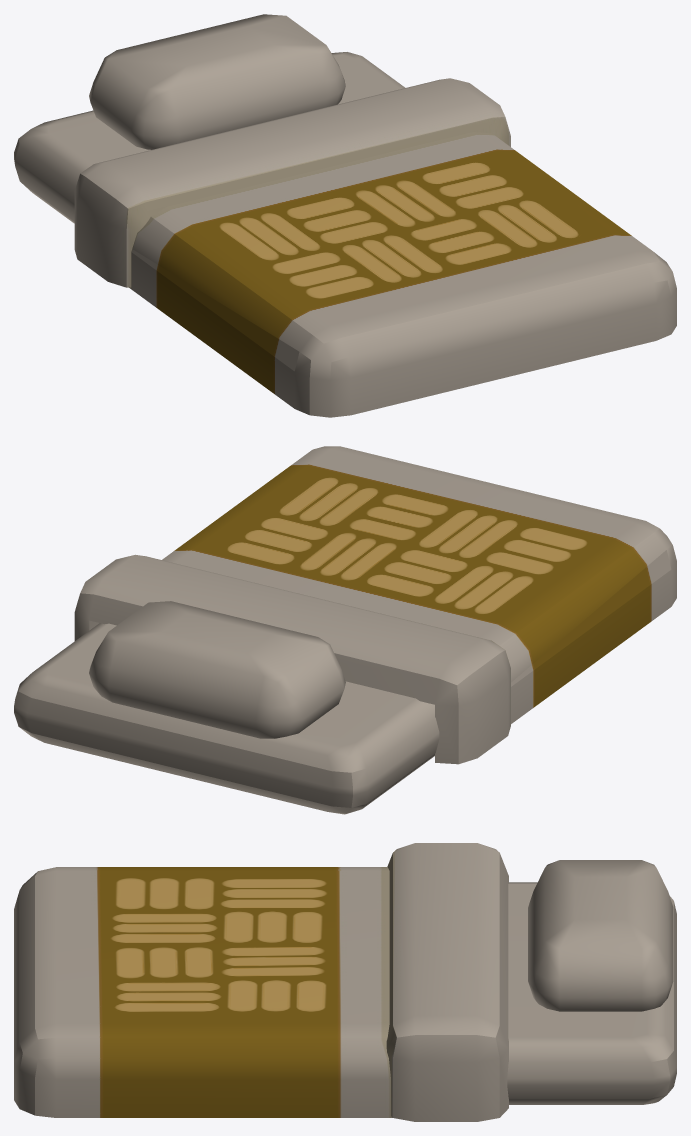
File: Cama4Cama.obj
The picture shows the model from 3 angles, top to bottom: view 1: azimuth 30°, elevation 25°; view 2: azimuth 150°, elevation 25°; view 3: azimuth 270°, elevation 25°; orthographic projection. The views are drawn at different scales.
Parts seen in each view (by area): view 1: Cama_pCube25; view 2: Cama_pCube25; view 3: Cama_pCube25.
Boxes of the visible parts, left/top/right/bottom form: Cama_pCube25: left=14, top=14, right=676, bottom=417; Cama_pCube25: left=14, top=446, right=676, bottom=814; Cama_pCube25: left=14, top=843, right=676, bottom=1121.
Size of the model in its own units: 1.07 by 0.32 by 1.5.
1 material, 1 textured.
